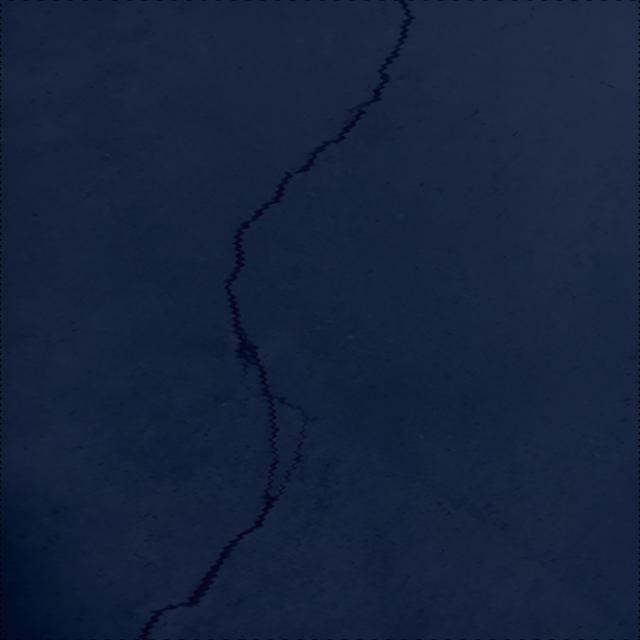crack: (138, 0, 414, 640), (479, 1, 542, 48), (380, 0, 390, 42)
